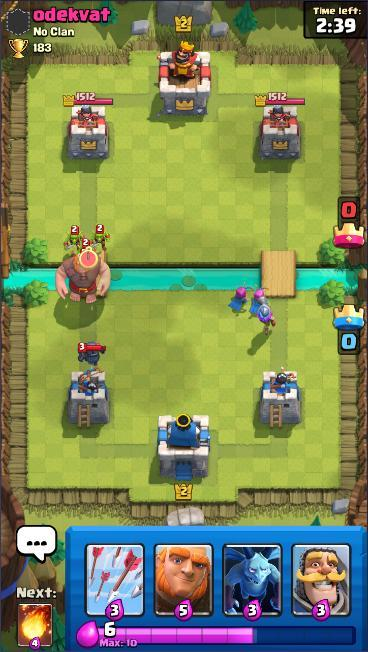ally_archer: (228, 285, 254, 315), (249, 286, 272, 317)
ally_musketeer: (256, 304, 276, 337)
enemy_giant: (54, 250, 111, 305)
enemy_goblin: (89, 223, 111, 252), (63, 224, 86, 251), (77, 238, 95, 266)
enemy_mini_pekka: (77, 339, 109, 369)
